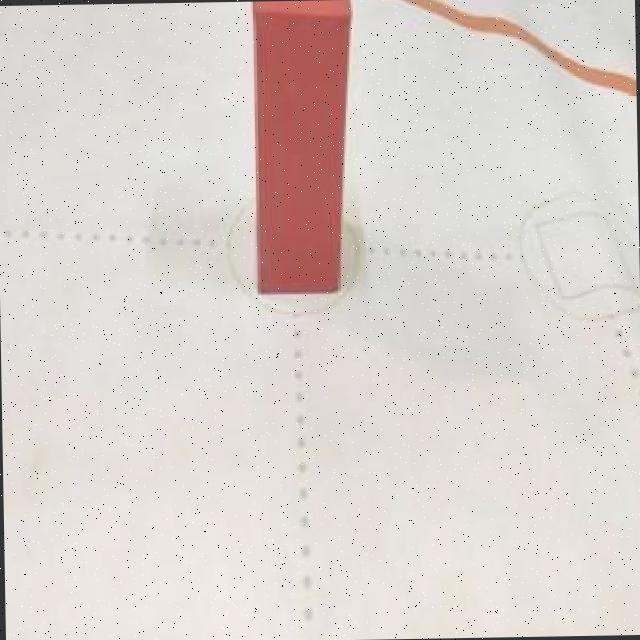redbox: (247, 0, 356, 294)
